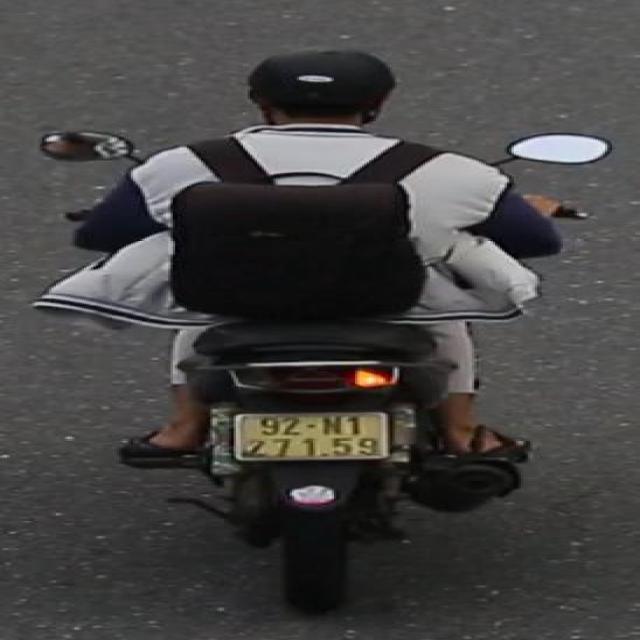LP: (223, 406, 398, 462)
helmet: (236, 41, 409, 140)
